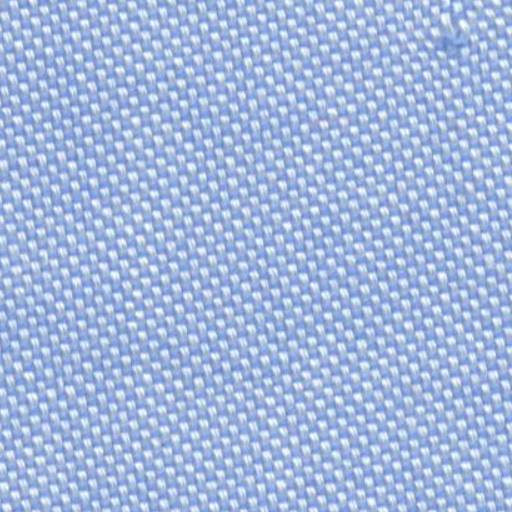PoDong: (413, 6, 485, 62)
